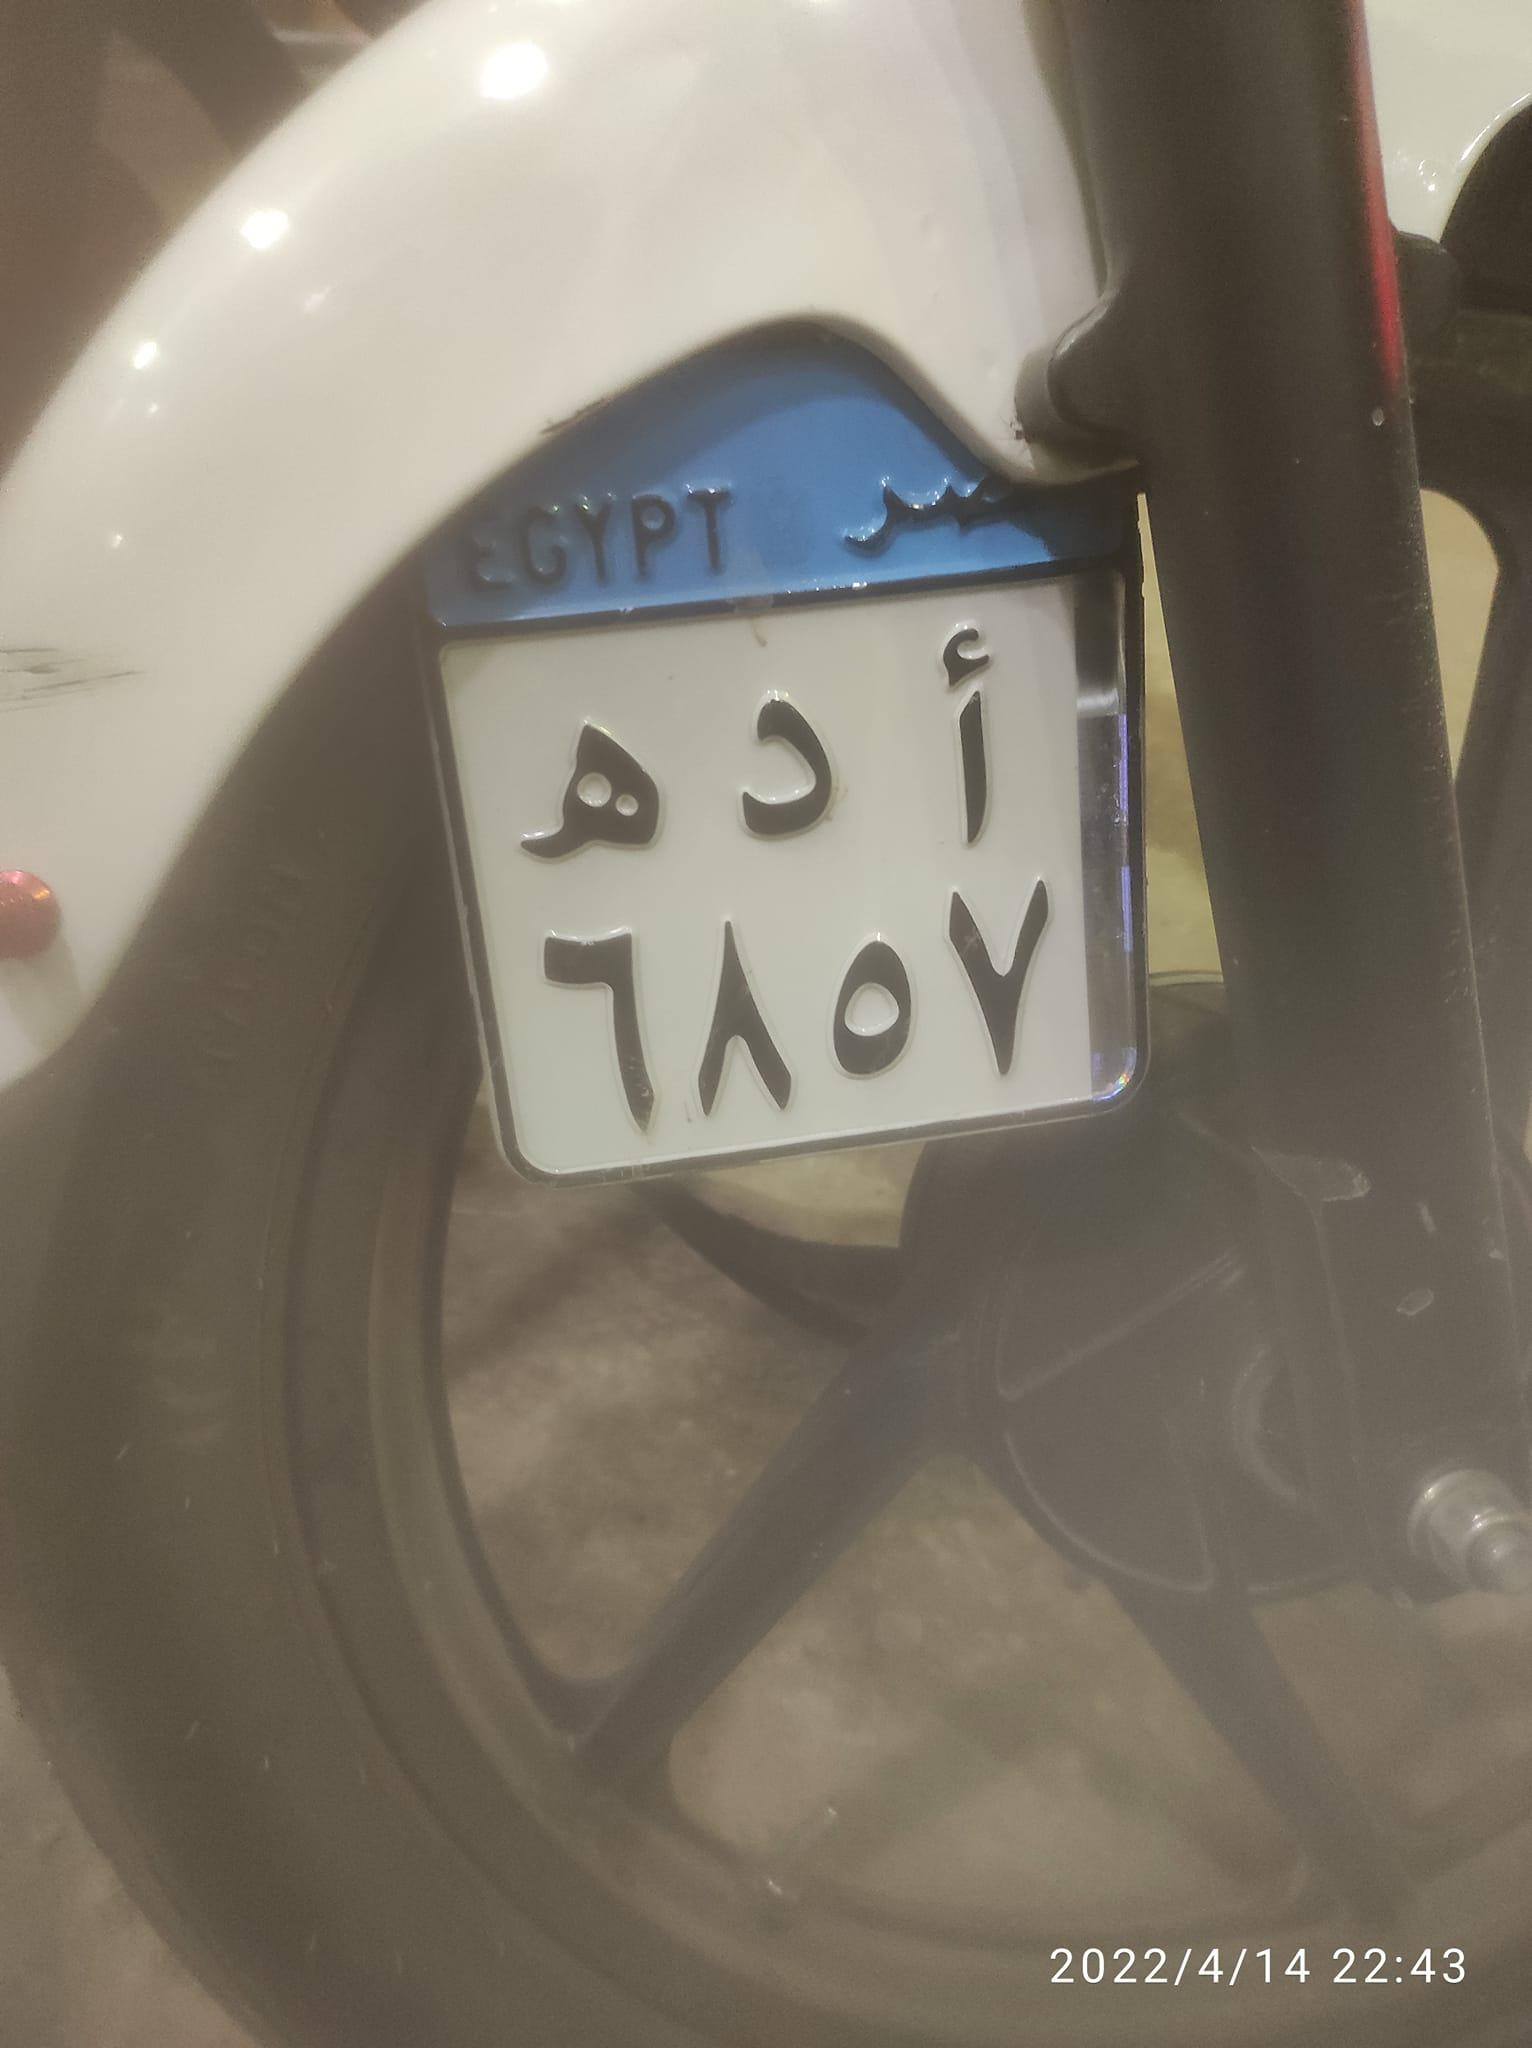License Plate: (375, 313, 1130, 1233)
